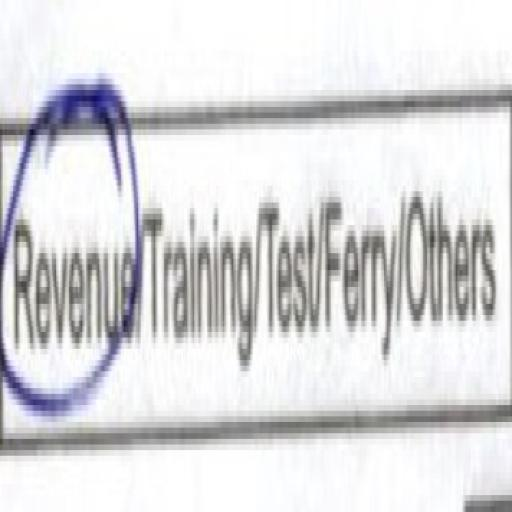check: (0, 0, 143, 493)
